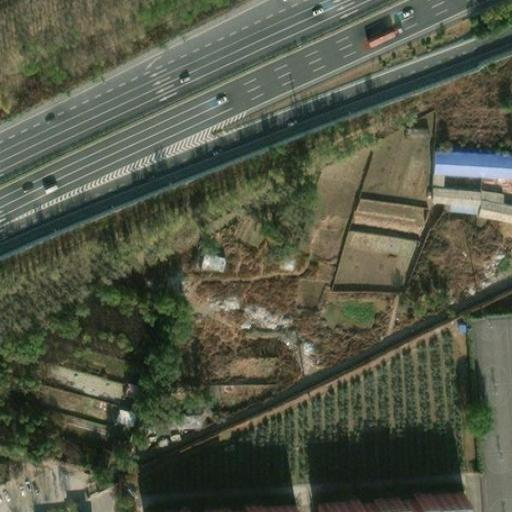building: (460, 309, 512, 512), (304, 488, 453, 512), (353, 190, 429, 230), (423, 142, 512, 169), (146, 499, 292, 512), (467, 181, 512, 215), (424, 180, 472, 202), (112, 403, 138, 427), (189, 248, 218, 265)
